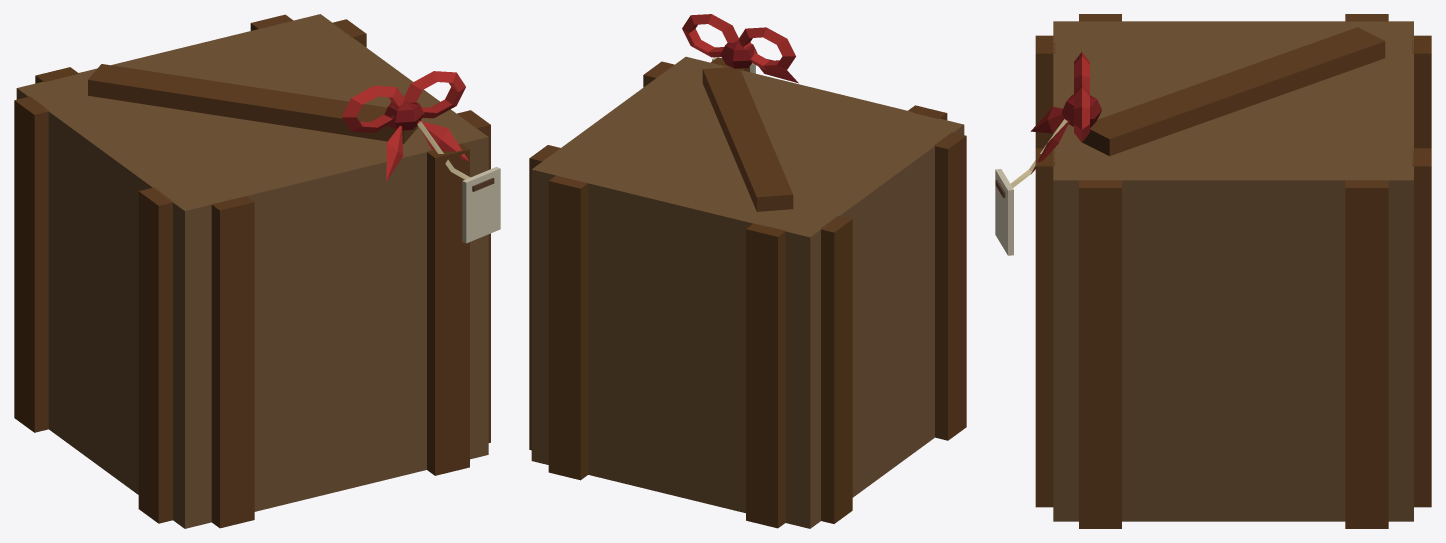
Rendered from quest_supply_crate.glb.
The picture shows the model from 3 angles, left to right: view 1: azimuth 30°, elevation 25°; view 2: azimuth 150°, elevation 25°; view 3: azimuth 270°, elevation 25°; orthographic projection. The views are drawn at different scales.
Visible parts, largest first — view 1: quest_supply_crate; view 2: quest_supply_crate; view 3: quest_supply_crate.
Boxes of the visible parts, x1=… form: quest_supply_crate: x1=14, y1=14, x2=500, y2=528; quest_supply_crate: x1=529, y1=14, x2=966, y2=528; quest_supply_crate: x1=995, y1=14, x2=1431, y2=528.
Bounding box in the file's own units: 0.4 × 0.4421 × 0.424.
